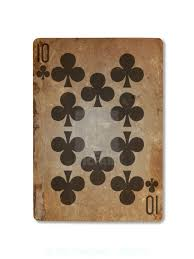ten of clubs: (32, 38, 166, 223)
